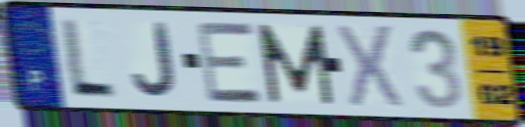3: (407, 27, 462, 110)
E: (194, 20, 267, 105)
J: (130, 20, 180, 100)
L: (59, 16, 120, 101)
M: (254, 21, 337, 106)
X: (334, 22, 406, 112)
